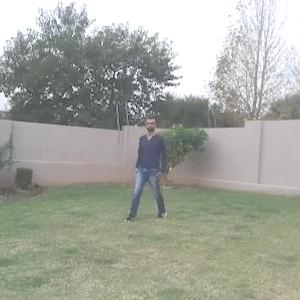follow: (136, 110, 166, 213)
